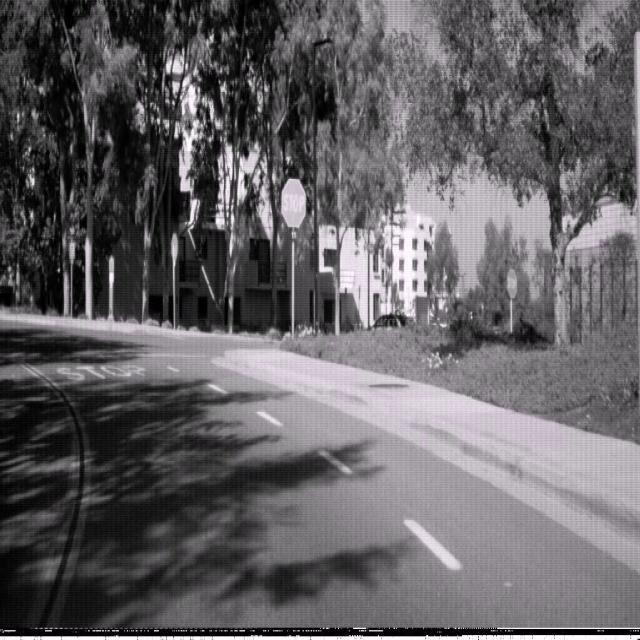stop: (282, 178, 306, 227), (507, 267, 518, 299)
